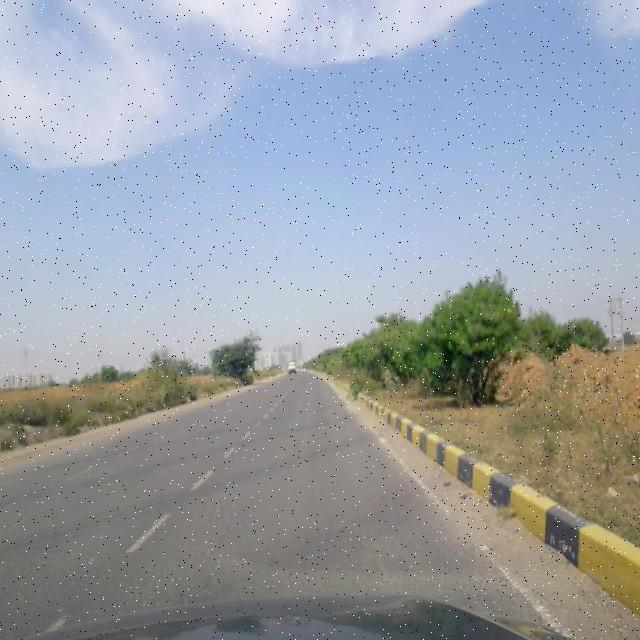D20: (132, 488, 255, 604)
